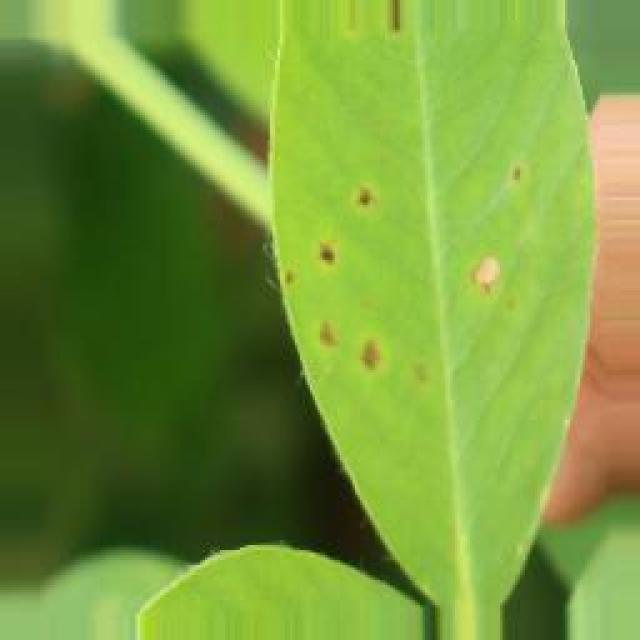Sigatoka: (275, 314, 437, 414), (495, 142, 571, 236), (262, 229, 351, 294), (444, 249, 524, 319), (319, 172, 385, 244), (362, 0, 417, 52)
